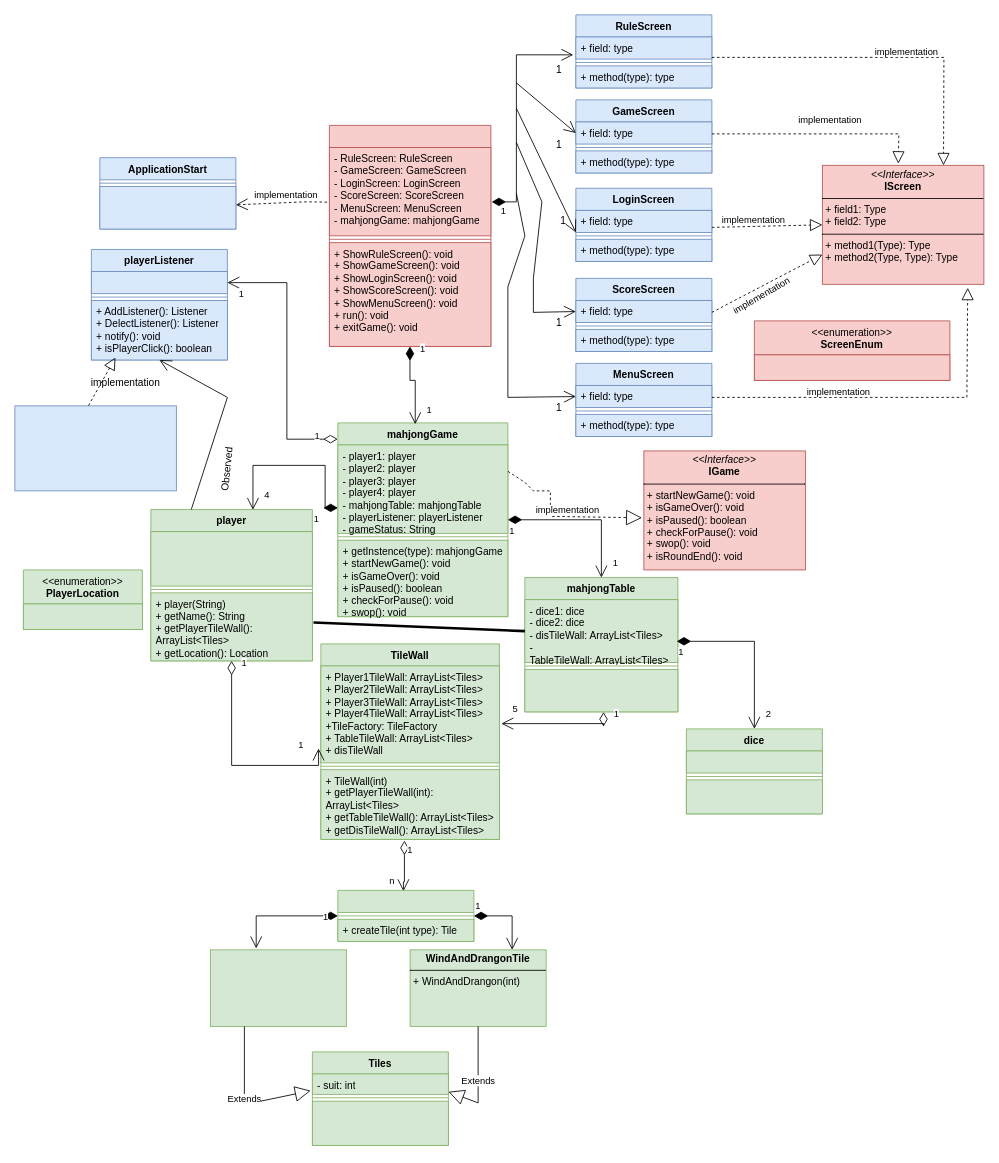
This 999x1163 diagram has some shape labels left out. The box of each missing label's shape, as (x1, y1, x2, y2) in pixels:
+ dice() + toss(): int: (686, 779, 822, 814)
+ mahjongTable() + getInstence(): mahjongTable + tossDices(): int: (524, 669, 678, 712)
+ main(String[] args): void + start(Stage ): (99, 186, 236, 229)
+ number: int: (686, 750, 822, 773)
+ playerListener: Listener: (91, 271, 227, 294)
+ Tiles(int, int) + getSuit(): int + setSuit: void: (312, 1100, 448, 1145)
- location: PlayerLocation - playerTileWall:ArrayList<Tiles> - name: String: (150, 531, 312, 586)
<<Interface>> IListener + AddListener(): Listener + DelectListener(): void: (14, 405, 176, 491)
GameManager: (329, 125, 491, 346)
NumberTile - rank: int + NumberTile() + getRank(): int: (210, 949, 346, 1026)
RuleScreen, GameScreen, LoginScreen, ScoreScreen, MenuScreen: (754, 354, 950, 380)
TileFactory: (337, 890, 474, 941)
west, east, south, north: (23, 603, 142, 629)
